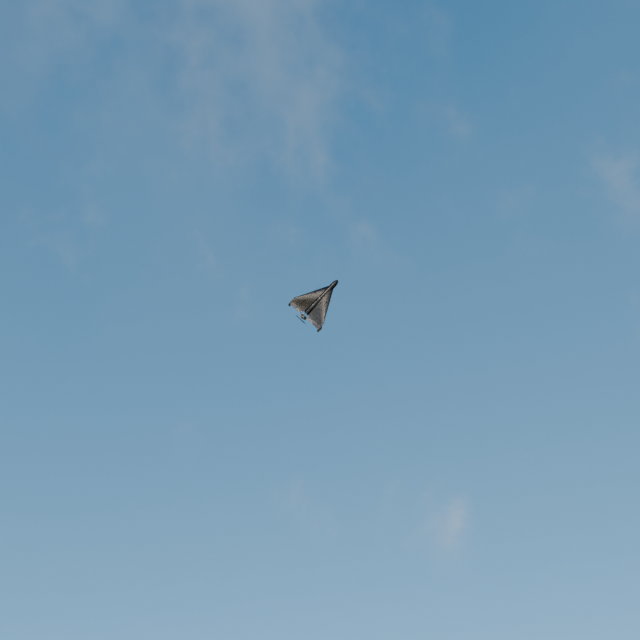shahed: (288, 280, 338, 333)
